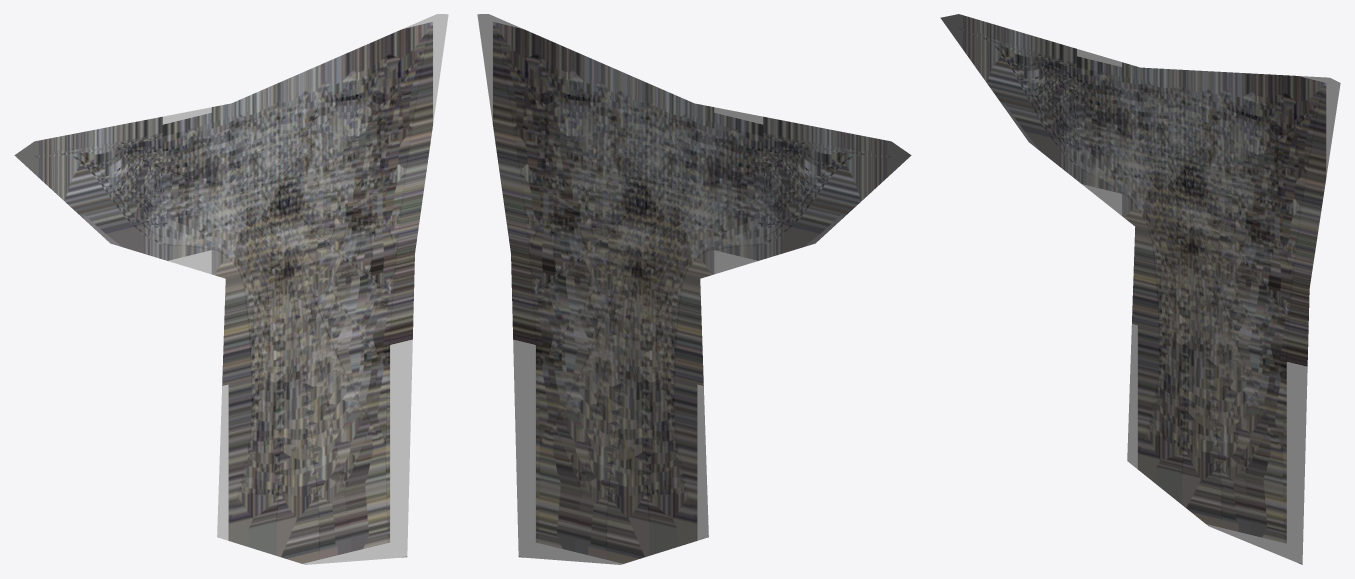
The model's file is cobweb-02.fbx.
3 renders of one model, left to right at view 1: azimuth 30°, elevation 25°; view 2: azimuth 150°, elevation 25°; view 3: azimuth 330°, elevation 25°, orthographic. The views are drawn at different scales.
Parts seen in each view (by area): view 1: Plane.008; view 2: Plane.008; view 3: Plane.008.
Part boxes in pixels (<box>): Plane.008: <box>14,14,448,564</box>; Plane.008: <box>477,14,911,564</box>; Plane.008: <box>940,14,1340,564</box>.
Bounding box in the file's own units: 2.87 × 3.38 × 7.67e-07.
